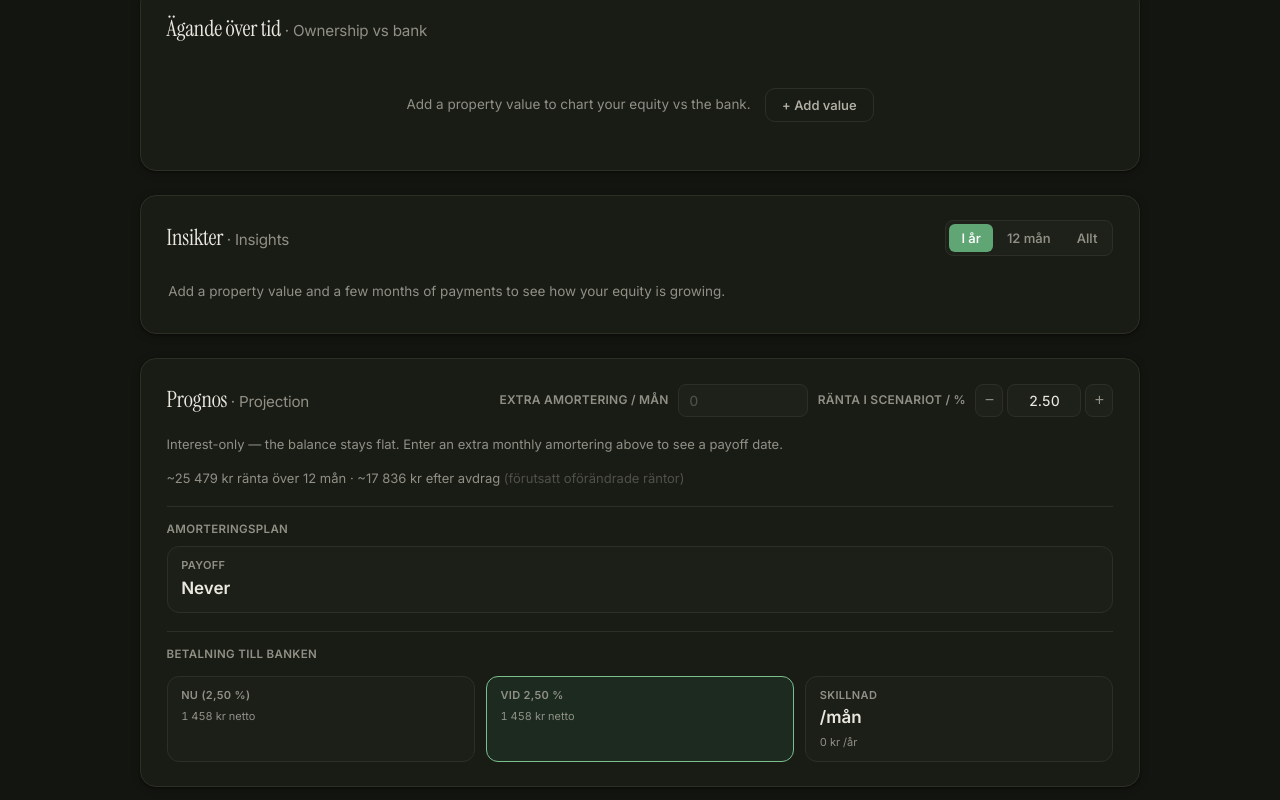
Test case: Bolanekoll — save failures surface to the user (regression for audit H2 / PR #237) › does not turn incomplete scenario-rate text into 0 %
(page scrolled)
Replace the text in the field labelled "Ränta i scenariot / %" with "2," at (1044, 400), box x1=1007 y1=384 x2=1081 y2=417
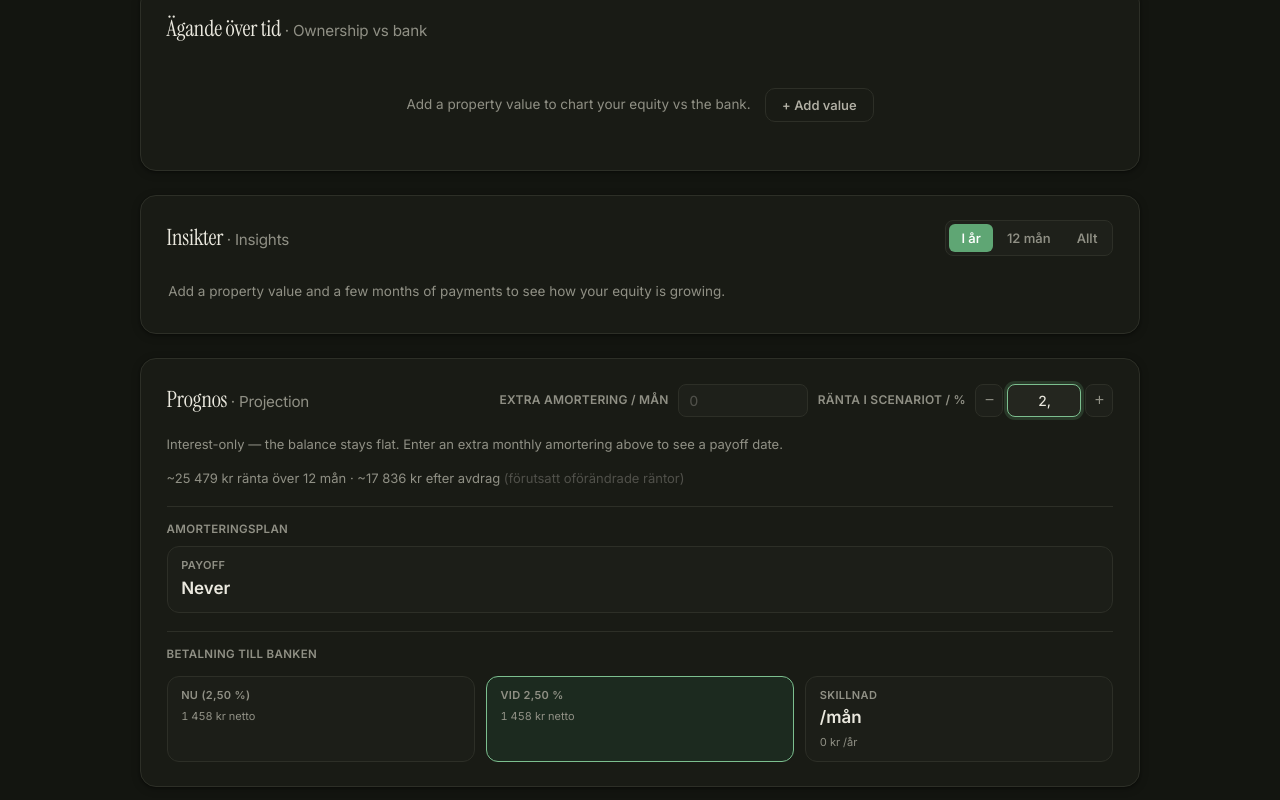
Press Tab
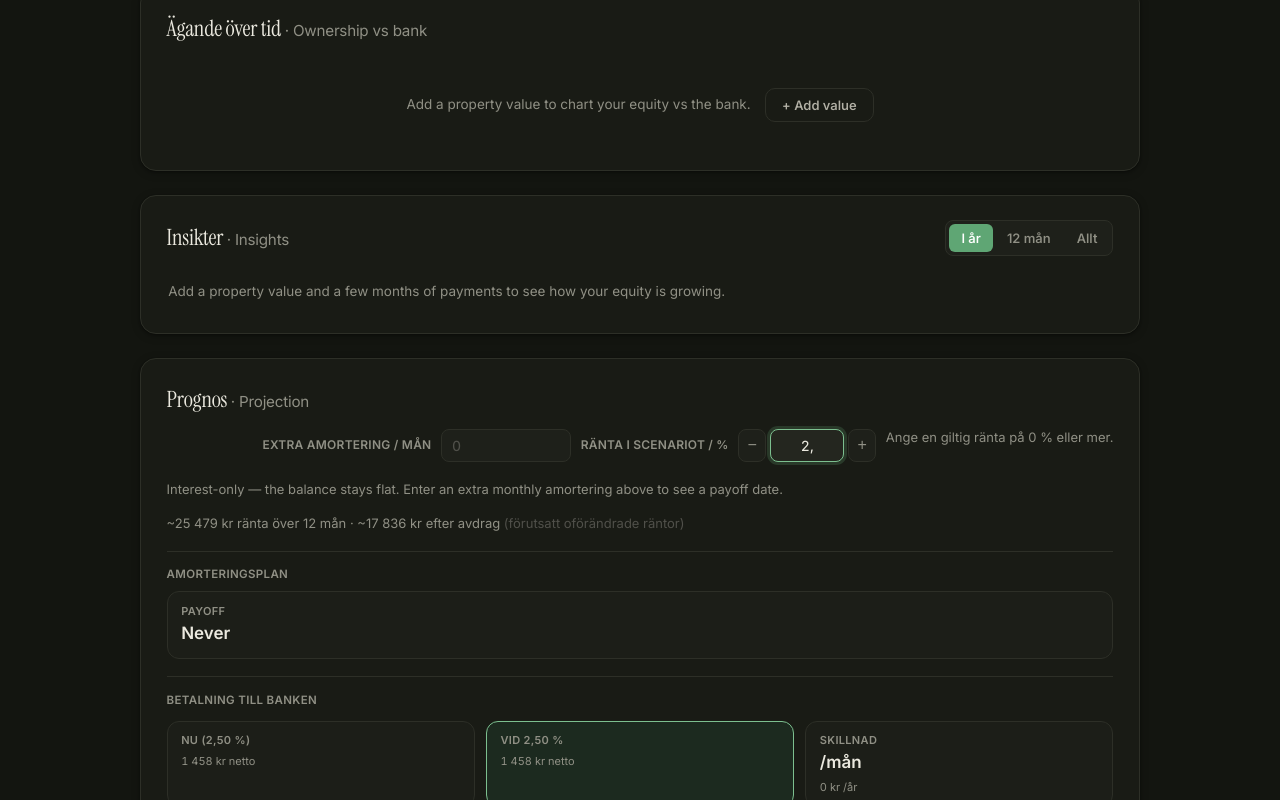
Expected: the text "Ange en giltig ränta på 0 % eller mer." is shown, x1=886 y1=428 x2=1113 y2=448
